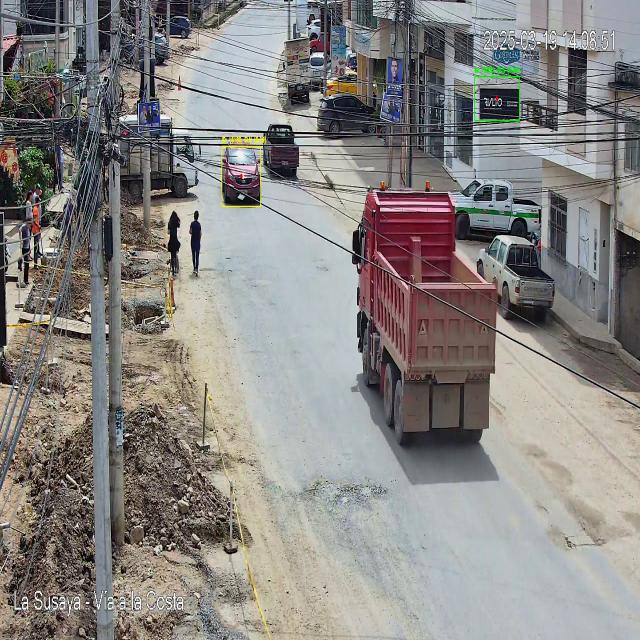TRUCK: (354, 188, 498, 443)
